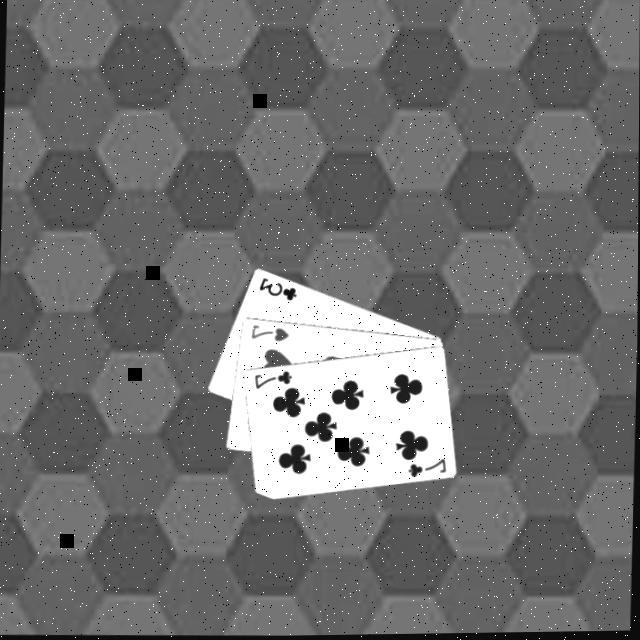3C: (254, 275, 298, 305)
7C: (403, 456, 447, 482), (250, 368, 293, 394)
7H: (246, 322, 290, 346)
